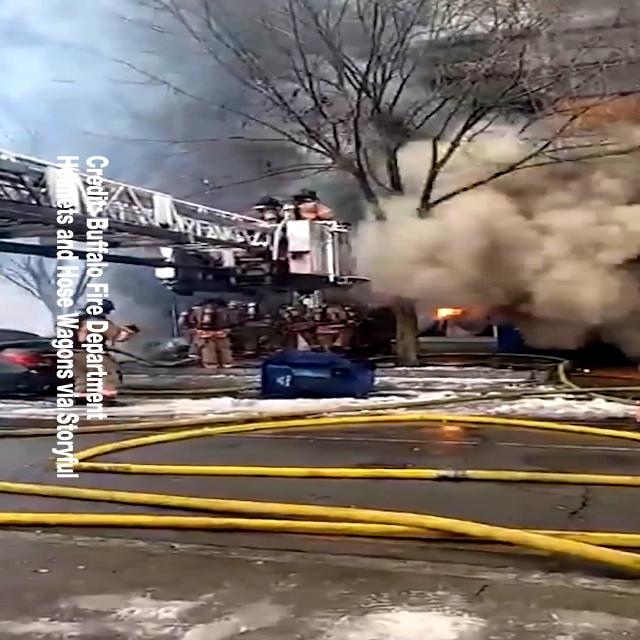no_helmet: (375, 125, 640, 353)
